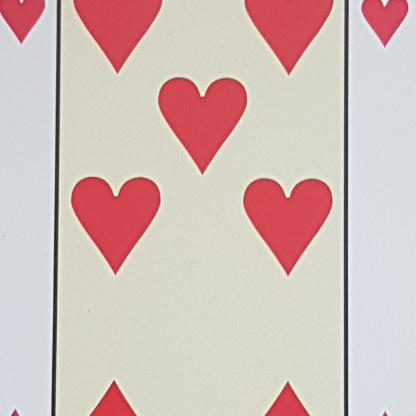7h: (0, 0, 62, 81), (353, 0, 415, 77)
